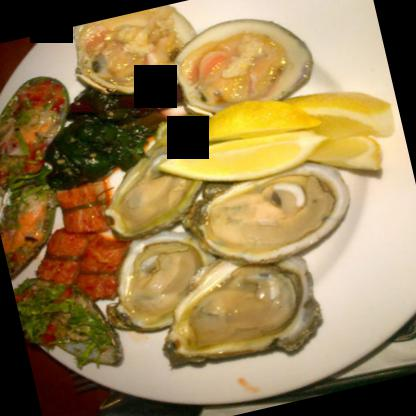oyster: (142, 249, 329, 381), (171, 154, 366, 278), (171, 4, 316, 120), (67, 0, 212, 107), (98, 226, 224, 336), (93, 142, 210, 244)
